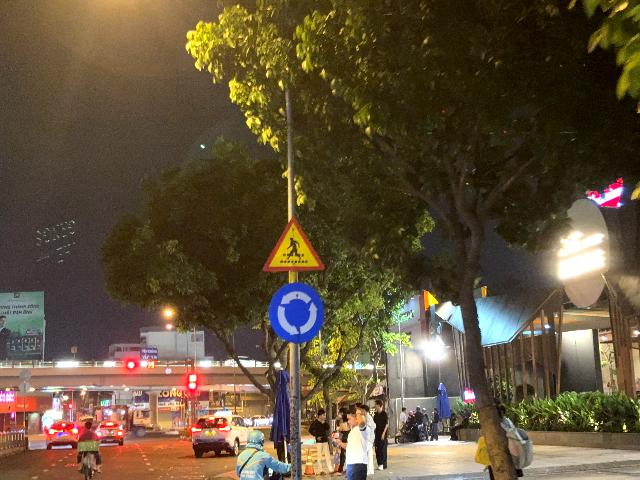duong-nguoi-di-bo-cat-ngang: (262, 217, 325, 271)
noi-giao-nhau-chay-theo-vong-xuyen: (268, 281, 326, 344)
